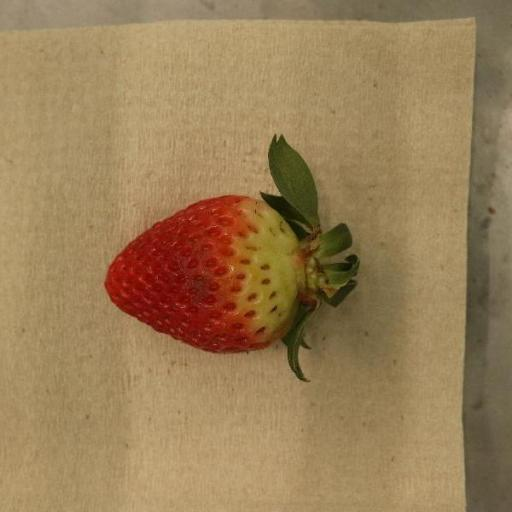Strawberry: (105, 135, 360, 382)
